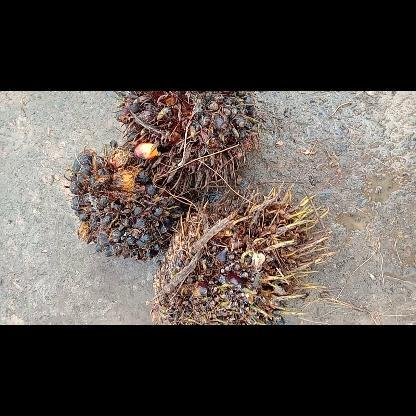TBS abnormal: (149, 182, 333, 324), (116, 91, 257, 189), (65, 145, 183, 261)
